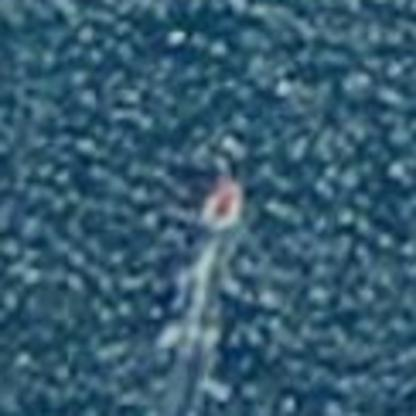ship: (184, 171, 263, 240)
